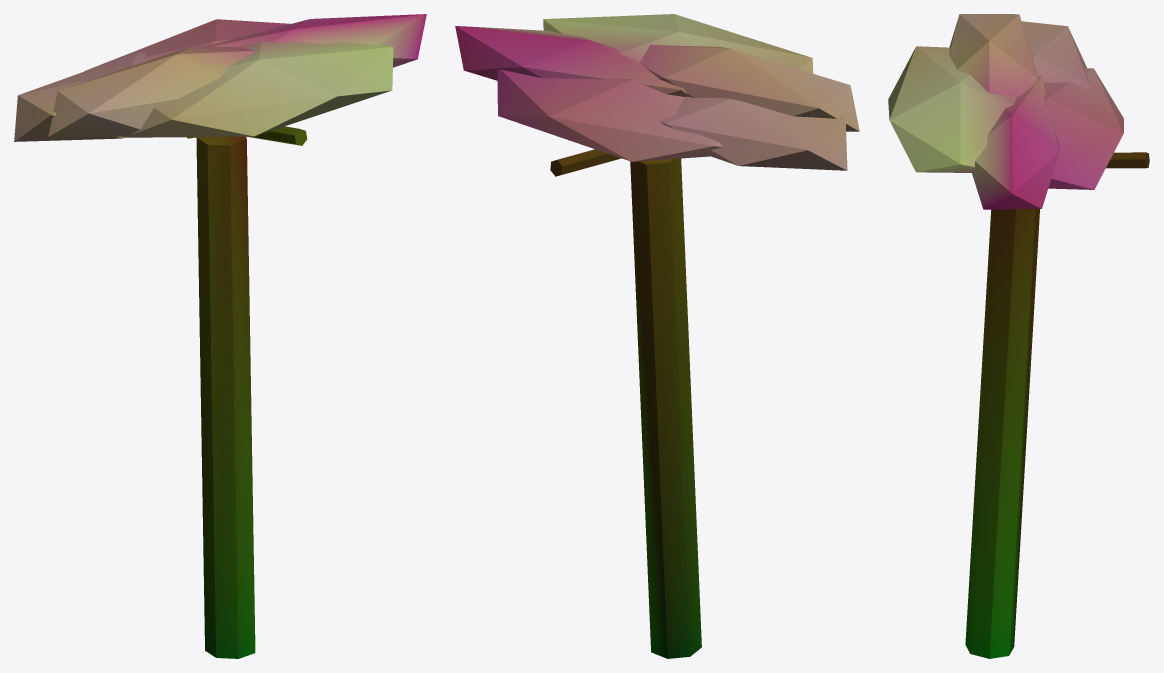
The model's file is savanna_02.glb.
The picture shows the model from 3 angles, left to right: view 1: azimuth 30°, elevation 25°; view 2: azimuth 150°, elevation 25°; view 3: azimuth 270°, elevation 25°; orthographic projection. The views are drawn at different scales.
Visible parts, largest first — view 1: savanna_02; view 2: savanna_02; view 3: savanna_02.
Boxes of the visible parts, bbox=[...] form: savanna_02: bbox=[14, 14, 426, 658]; savanna_02: bbox=[455, 14, 859, 658]; savanna_02: bbox=[888, 14, 1149, 658].
Size of the model in its own units: 2.83 by 4.11 by 1.67.
